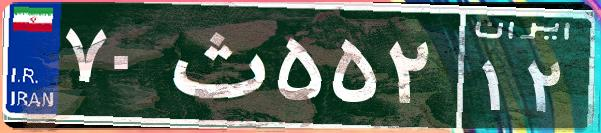0: (110, 28, 158, 105)
1: (475, 38, 525, 113)
2: (385, 28, 445, 110), (525, 38, 570, 115)
5: (273, 28, 330, 110), (330, 28, 385, 110)
7: (57, 26, 110, 107)
ث: (158, 15, 273, 115)
